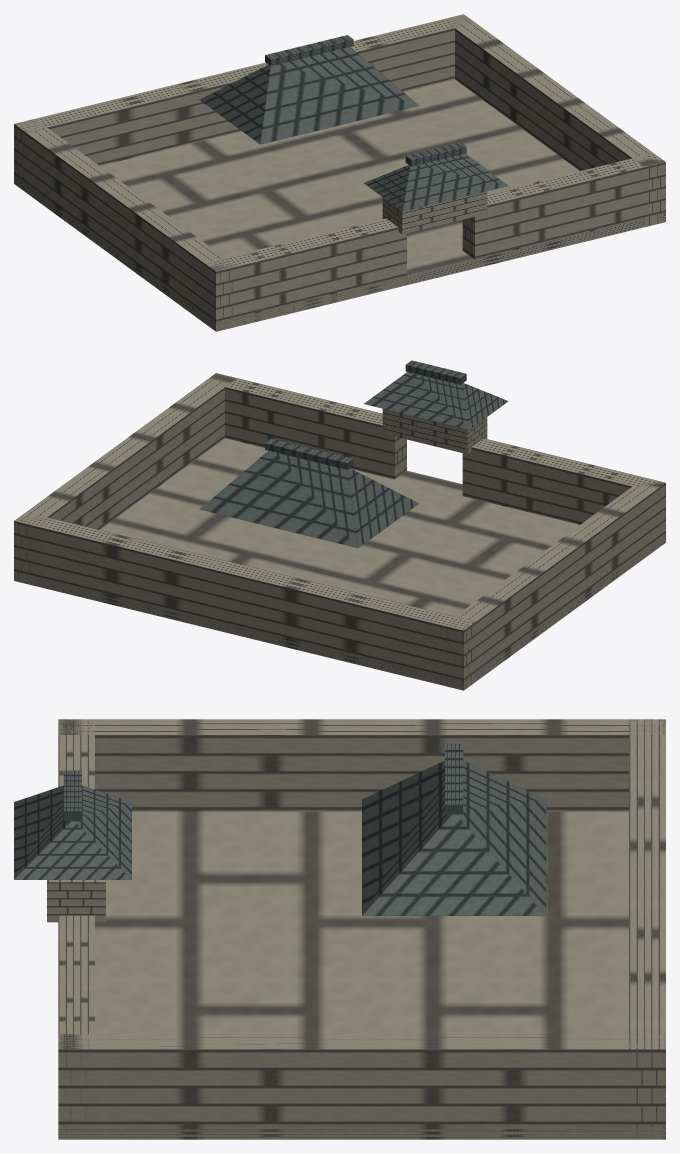
The model's file is city0-lod2.glb.
3 views of the same model, one above another, from view 1: azimuth 30°, elevation 25°; view 2: azimuth 150°, elevation 25°; view 3: azimuth 270°, elevation 25° (orthographic). The views are drawn at different scales.
Bounding box in the file's own units: 2.12 × 0.6 × 1.77.
Materials: 1 (1 with a texture image).
